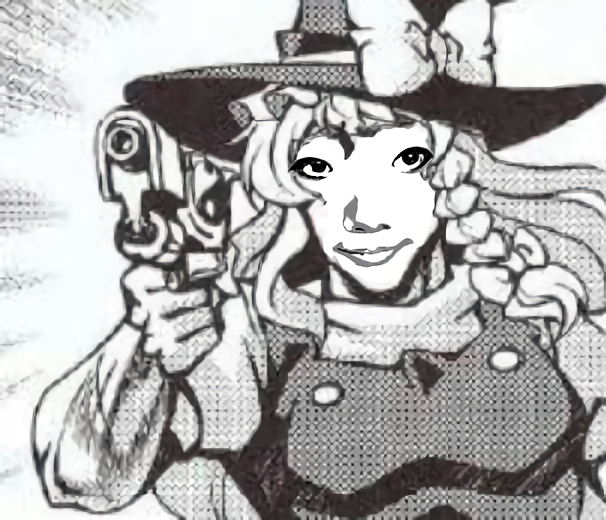dragon: (291, 138, 435, 270)
